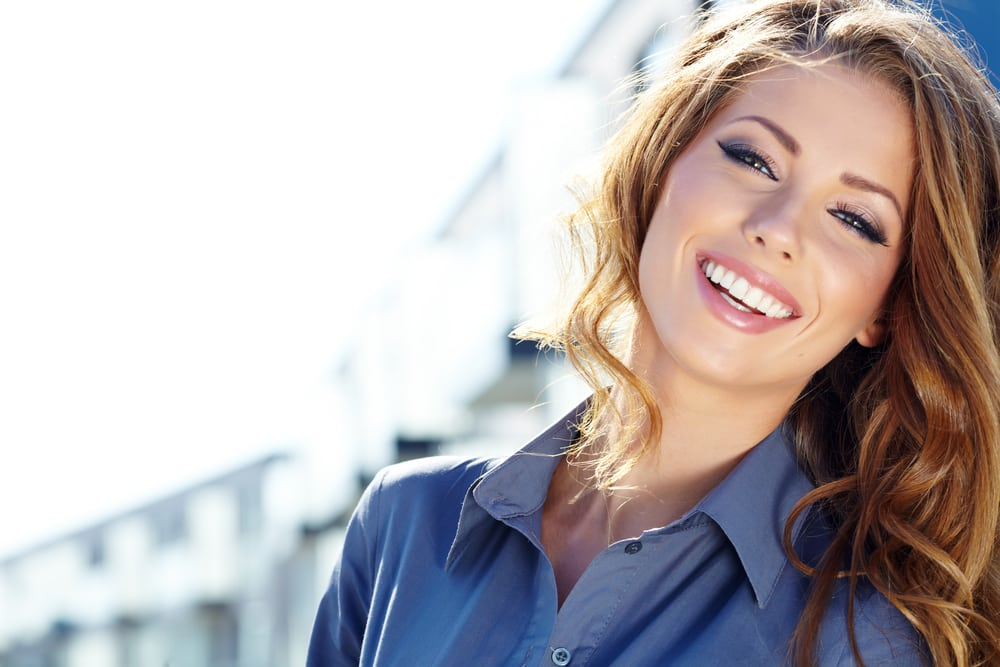shoot: (693, 250, 804, 336)
